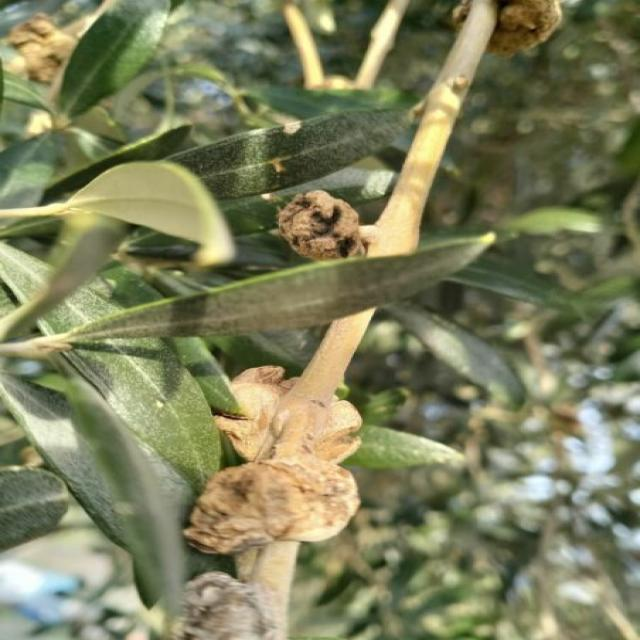Tuberculosis: (196, 366, 364, 554), (277, 190, 363, 259), (497, 0, 561, 57)
